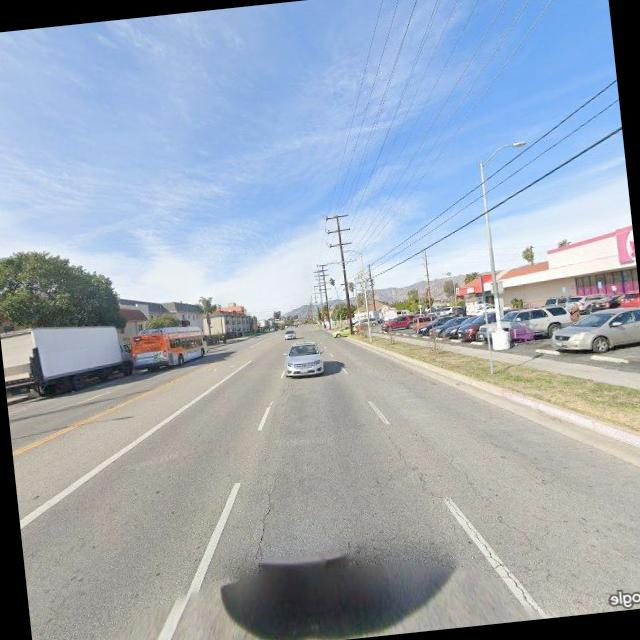pothole: (447, 485, 541, 626), (245, 473, 290, 561), (494, 508, 543, 554)
